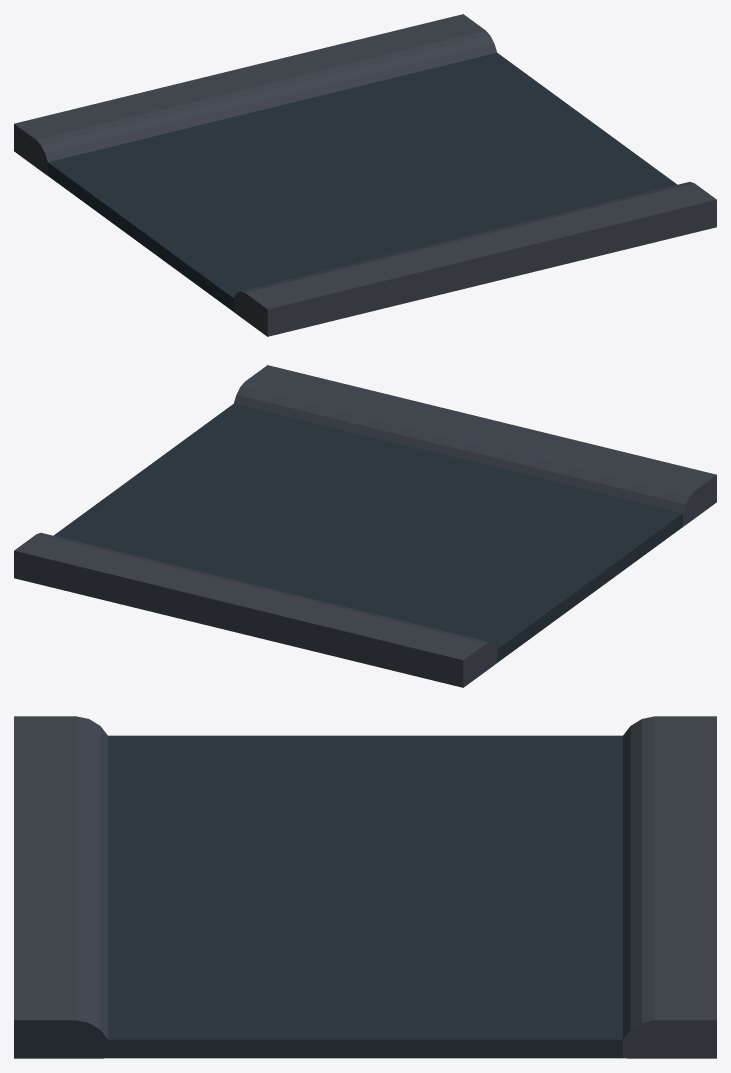
Rendered from Road.fbx.
3 renders of one model, top to bottom at view 1: azimuth 30°, elevation 25°; view 2: azimuth 150°, elevation 25°; view 3: azimuth 270°, elevation 25°, orthographic. The views are drawn at different scales.
Parts seen in each view (by area): view 1: FlatRoad_Skinny; view 2: FlatRoad_Skinny; view 3: FlatRoad_Skinny.
Part boxes in pixels (x1=…): FlatRoad_Skinny: x1=14, y1=14, x2=716, y2=336; FlatRoad_Skinny: x1=14, y1=365, x2=716, y2=687; FlatRoad_Skinny: x1=14, y1=716, x2=716, y2=1058.
Size of the model in its own units: 205 by 12 by 200.
